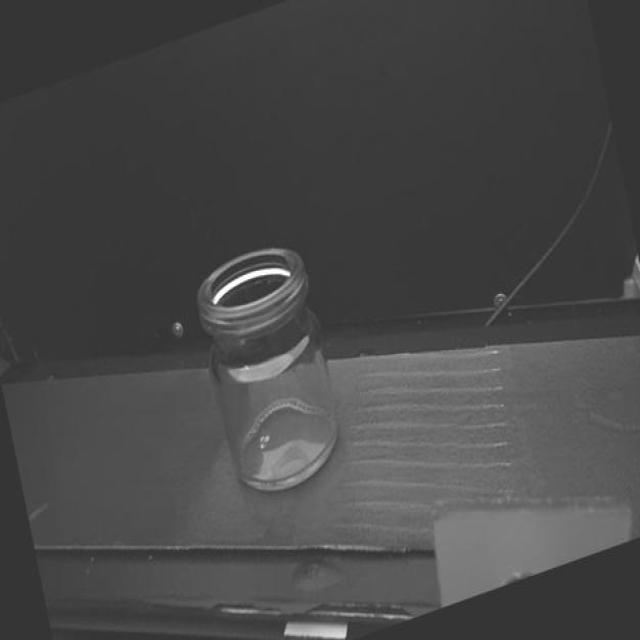defect: (239, 363, 253, 374)
glass: (188, 230, 349, 508)
